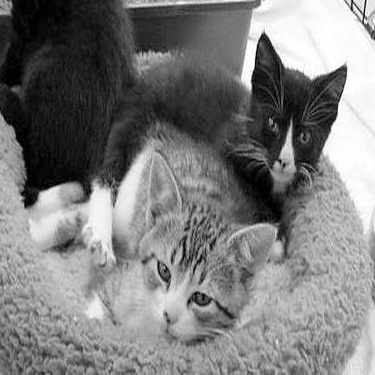cat: (72, 20, 355, 210), (25, 139, 293, 335)
